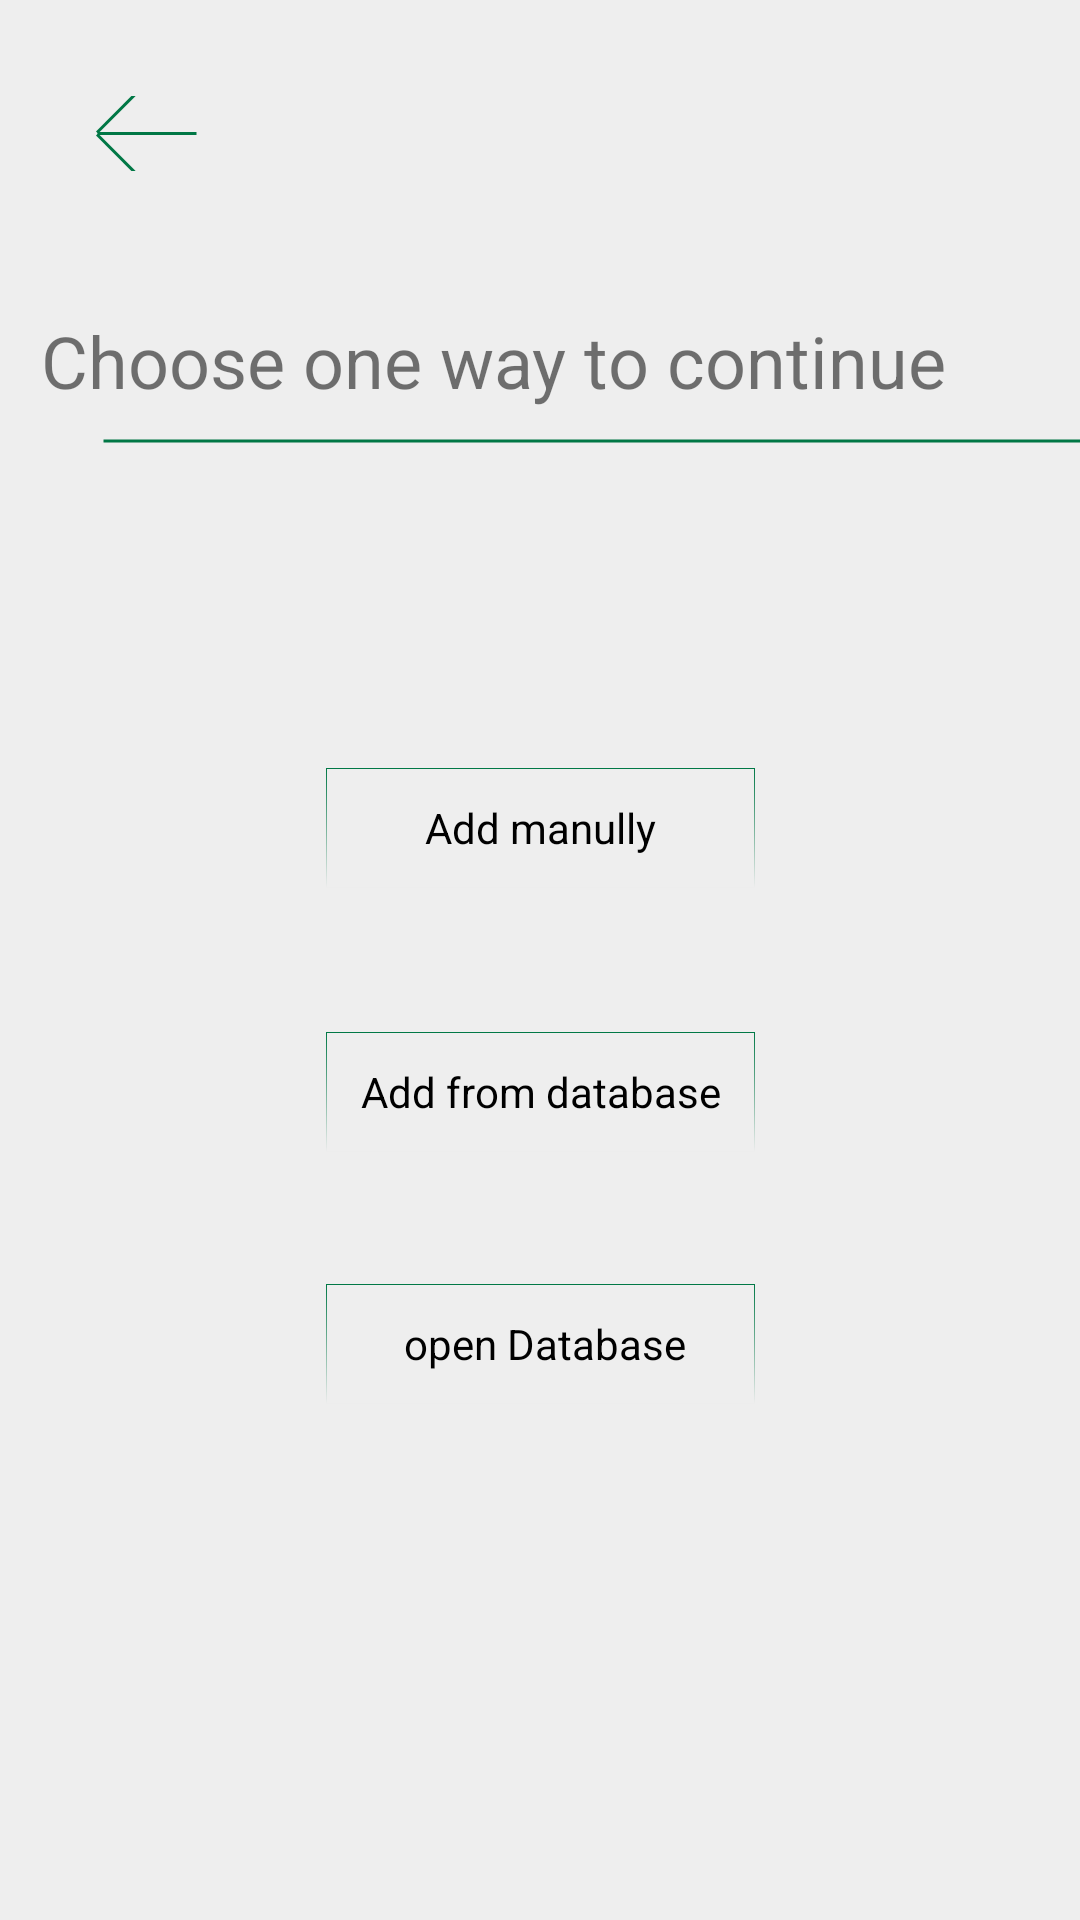

Where to tap for icons on this 1080 x 1920 app screen, as [x,y]:
arrow: [146,133]
